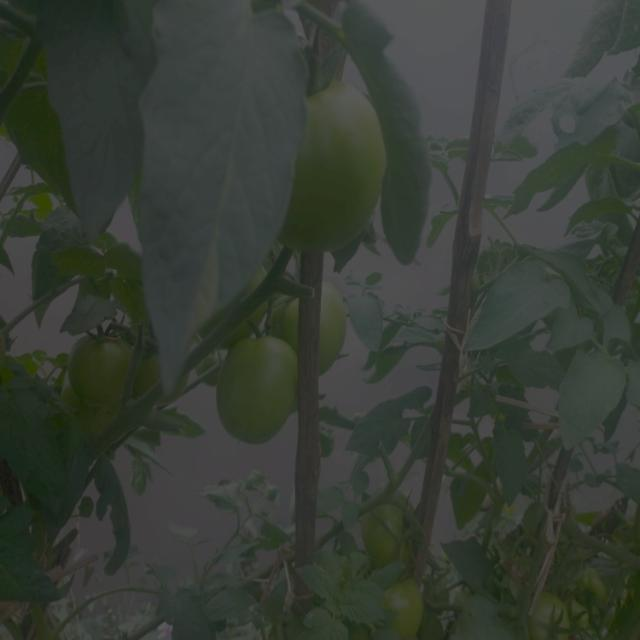tomato: (290, 65, 381, 246), (220, 328, 292, 441), (61, 321, 136, 402), (387, 575, 434, 639), (365, 493, 410, 555), (317, 287, 351, 369), (531, 595, 568, 640), (562, 595, 591, 640), (576, 568, 605, 613)
